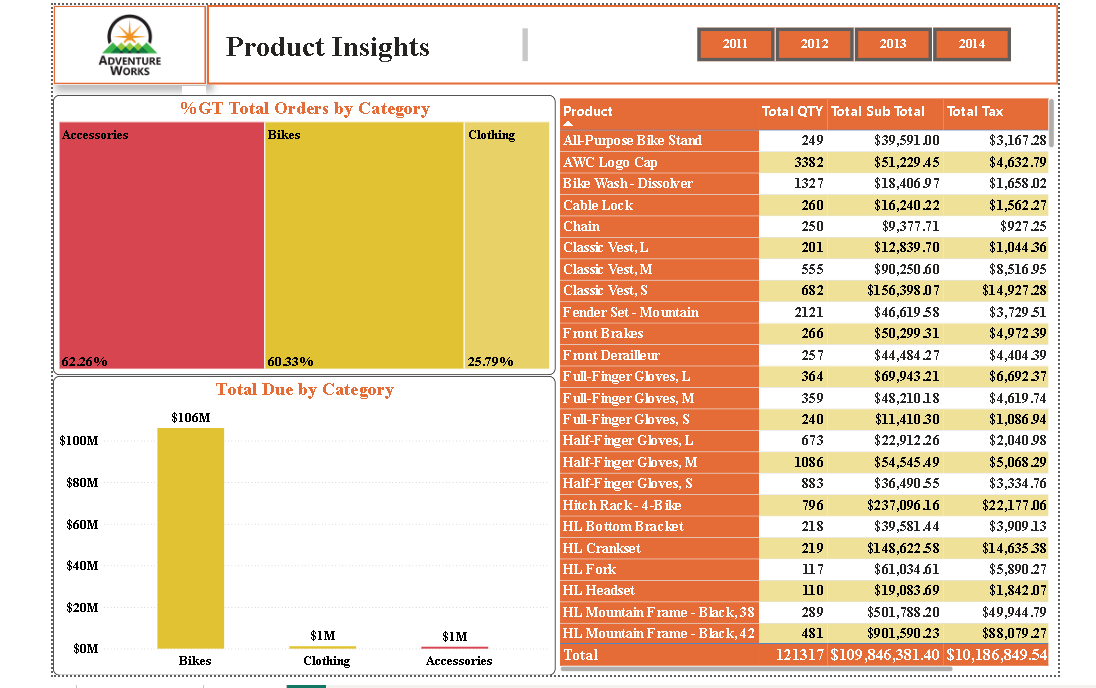

The page's visual inventory and layout, read from the dashboard file:
{"tool":"powerbi","page":{"name":"Product","canvas":[1500,1000],"ordinal":2},"visuals":[{"type":"image","box":[0,0,229.4,118.7],"z":0},{"type":"shape","box":[229.4,0,1270.6,118.7],"z":1000},{"type":"textbox","box":[253.7,29.9,459.7,59.7],"z":1001},{"type":"treemap","fields":{"Group":["Product|Dimms.Category","Product|Dimms.SubCategory","Product|Dimms.Product"],"Values":["DAX-Measures.Total Orders"]},"box":[0,134.8,750,418.2],"z":1002},{"type":"columnChart","fields":{"Category":["Product|Dimms.Category"],"Y":["DAX-Measures.Total Due"]},"box":[0,553,750,447],"z":1003},{"type":"tableEx","fields":{"Values":["Product|Dimms.Product","DAX-Measures.Total QTY","DAX-Measures.Total Sub Total","DAX-Measures.Total Tax","DAX-Measures.Total Due"]},"box":[750.7,134.3,749.3,865.7],"z":1004},{"type":"slicer","fields":{"Values":["Date|Dimms.Year"]},"box":[935.8,26.9,517.9,64.2],"z":1005}]}

Visuals, with their boxes in screenshot pixels (x1, y1, x2, y2):
image: <box>49,0,204,81</box>
shape: <box>204,0,1066,81</box>
textbox: <box>221,20,532,61</box>
treemap - Product|Dimms.Category x Product|Dimms.SubCategory: <box>49,91,557,375</box>
columnChart - Product|Dimms.Category x DAX-Measures.Total Due: <box>49,375,557,678</box>
tableEx - Product|Dimms.Product x DAX-Measures.Total QTY: <box>558,91,1066,678</box>
slicer - Date|Dimms.Year: <box>683,18,1035,62</box>
